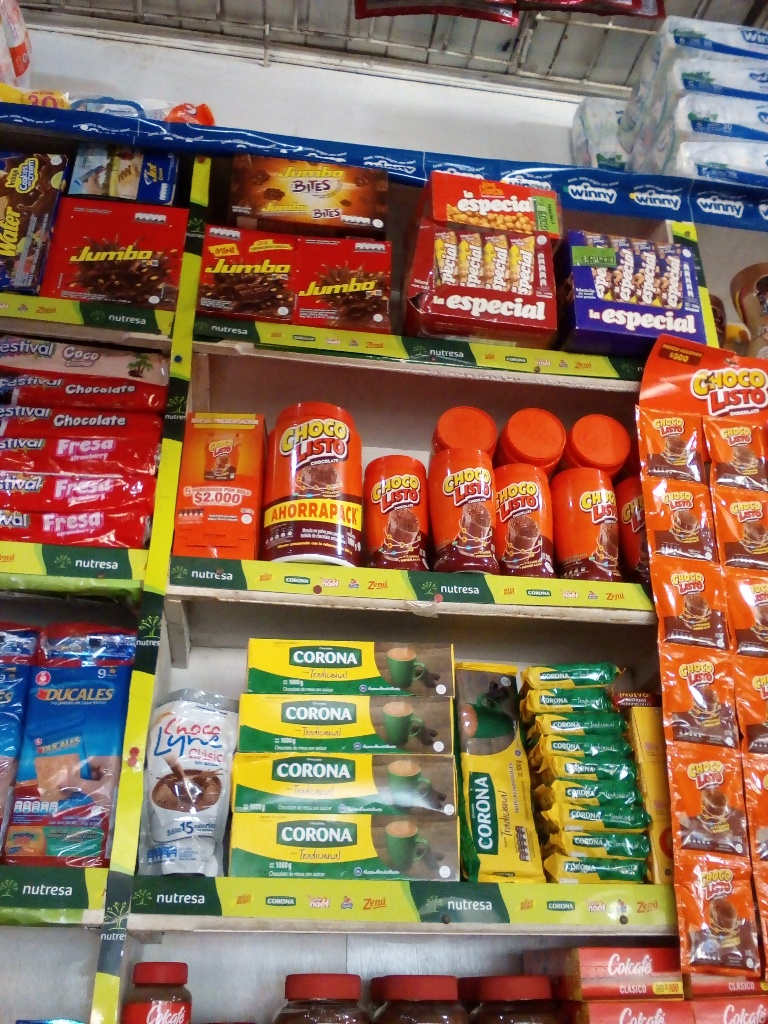COL0170103SOB02000: (635, 402, 705, 481)
COL0170103TRR00100: (262, 387, 366, 565)
